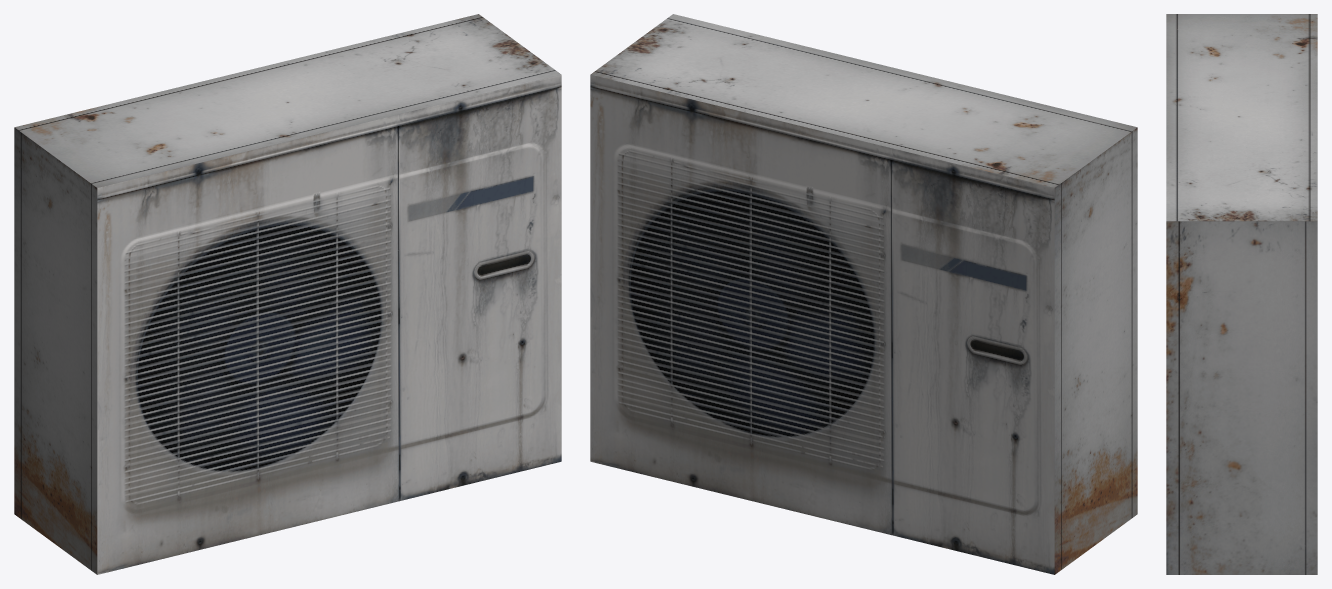
The model's file is Air_02.fbx.
3 renders of one model, left to right at view 1: azimuth 30°, elevation 25°; view 2: azimuth 150°, elevation 25°; view 3: azimuth 270°, elevation 25°, orthographic. The views are drawn at different scales.
Visible parts, largest first — view 1: Air_02; view 2: Air_02; view 3: Air_02.
Boxes of the visible parts, box(x1,y1,x2,y2) form: Air_02: box(14, 14, 561, 574); Air_02: box(590, 14, 1137, 574); Air_02: box(1166, 14, 1317, 574).
Bounding box in the file's own units: 106 × 32.91 × 84.72.
Materials: 1 (1 with a texture image).
